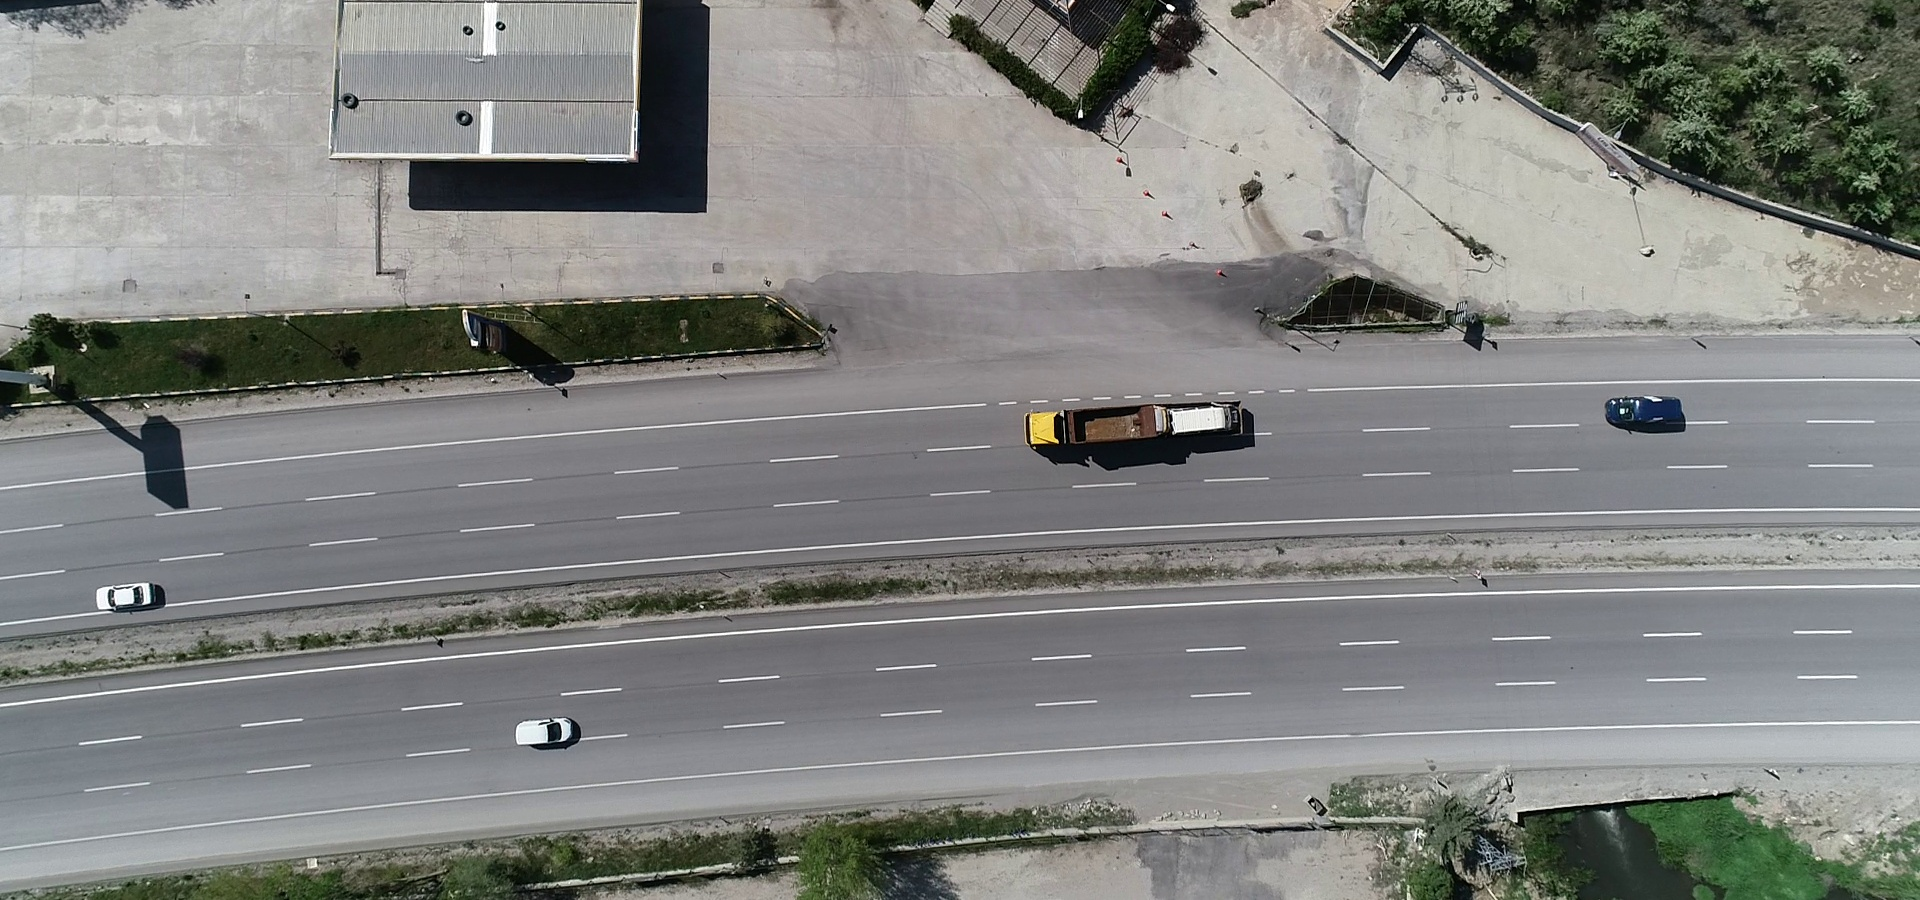araba: (89, 571, 175, 624), (1598, 392, 1693, 433), (509, 715, 585, 753)
kamyon: (1019, 384, 1280, 469)
